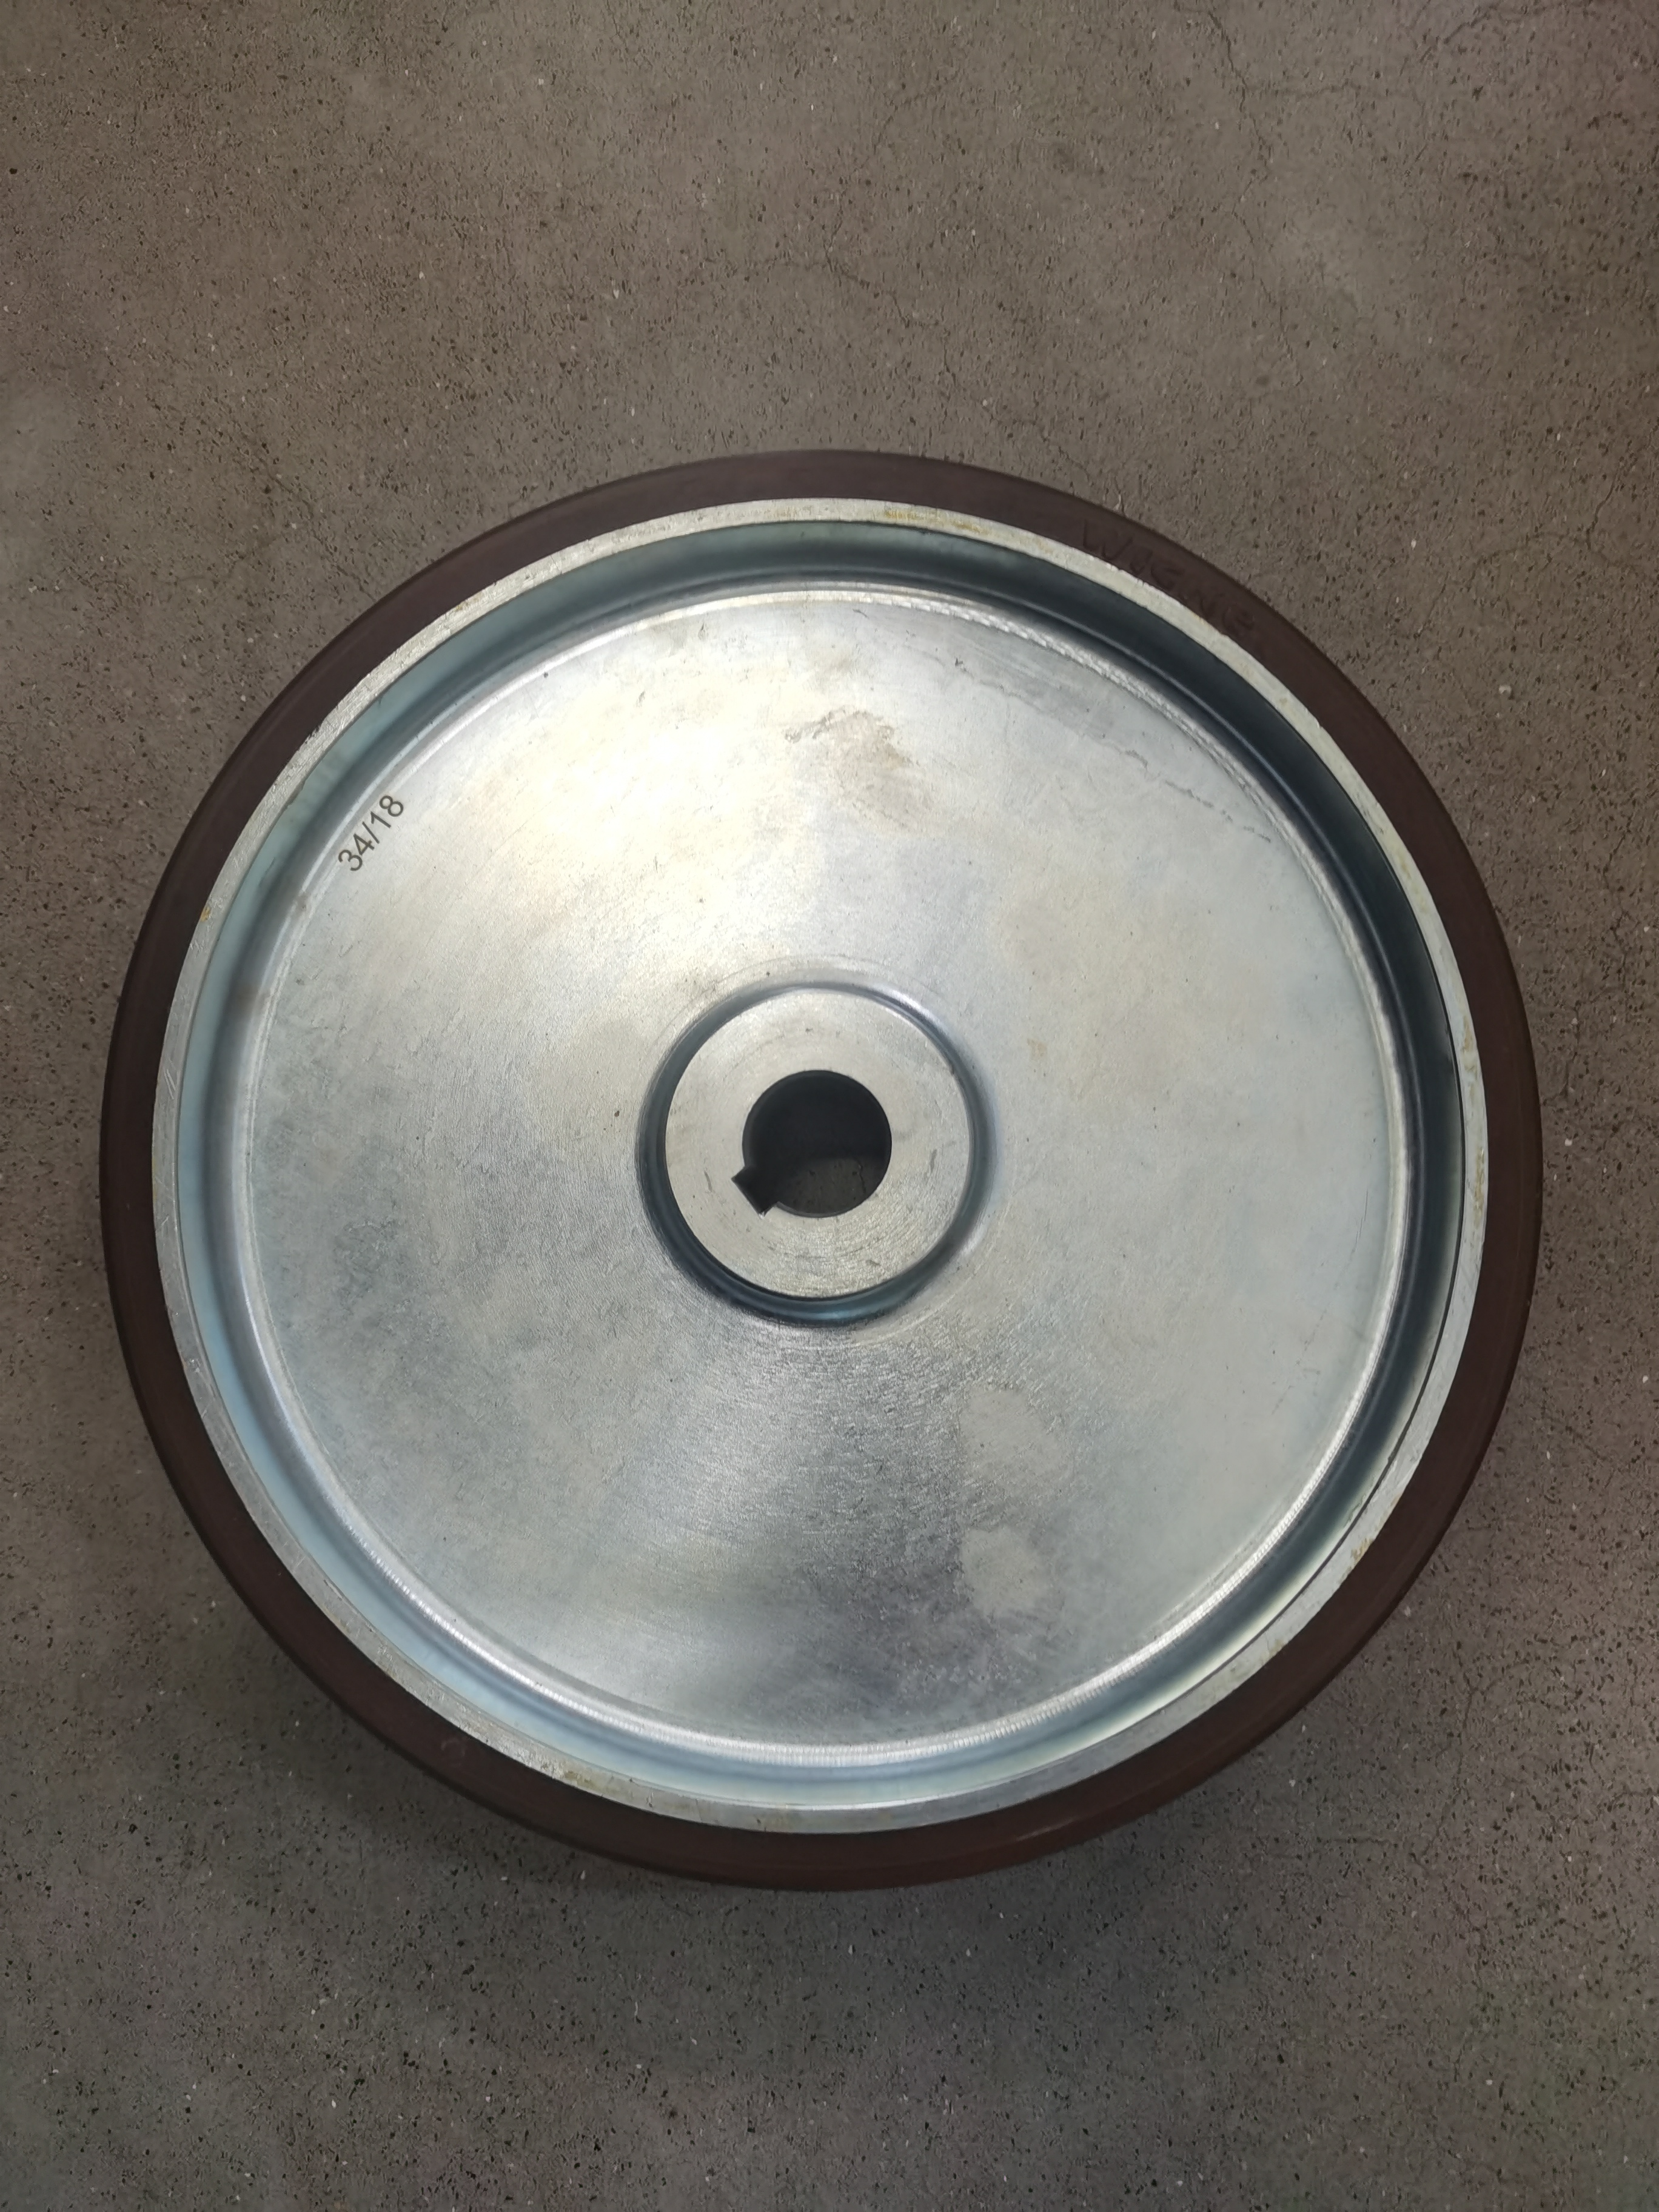good_wheel: (94, 406, 1574, 1932)
